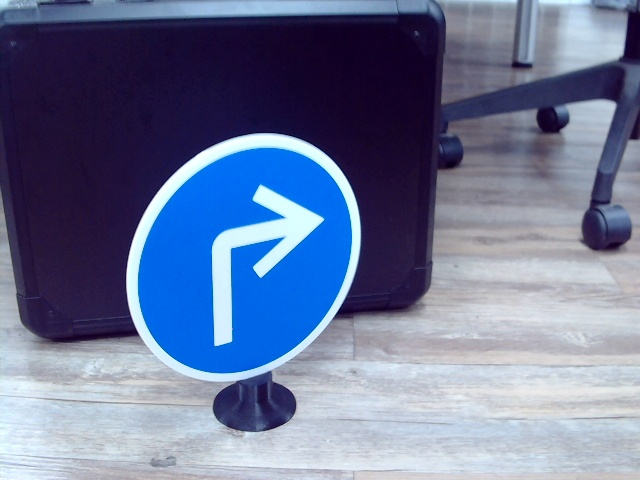turn_right: (197, 187, 320, 340)
